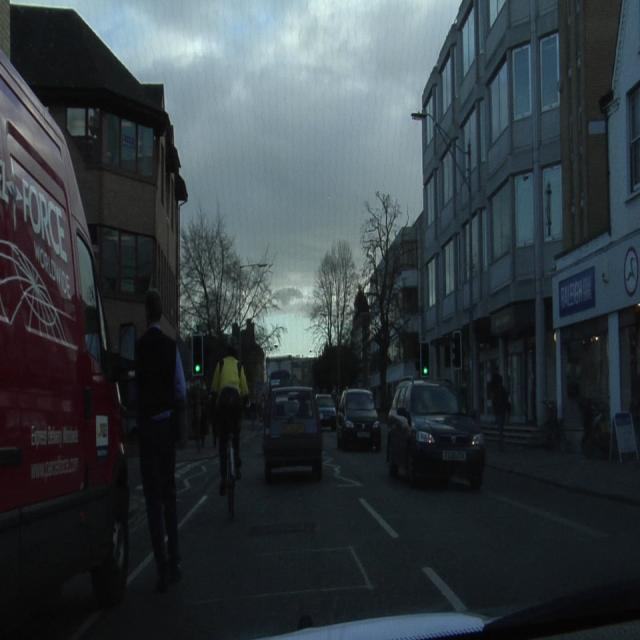Bicyclist: (218, 377, 243, 515)
Building: (415, 0, 637, 448), (9, 5, 188, 358)
Car: (388, 380, 484, 487), (264, 387, 322, 482), (337, 389, 380, 450), (317, 394, 335, 428)
Road: (0, 432, 639, 634)
Tree: (181, 210, 281, 351), (311, 240, 358, 348), (361, 193, 402, 299), (362, 192, 402, 271)
Truck_Bus: (0, 52, 129, 601)
person: (133, 287, 177, 591)
